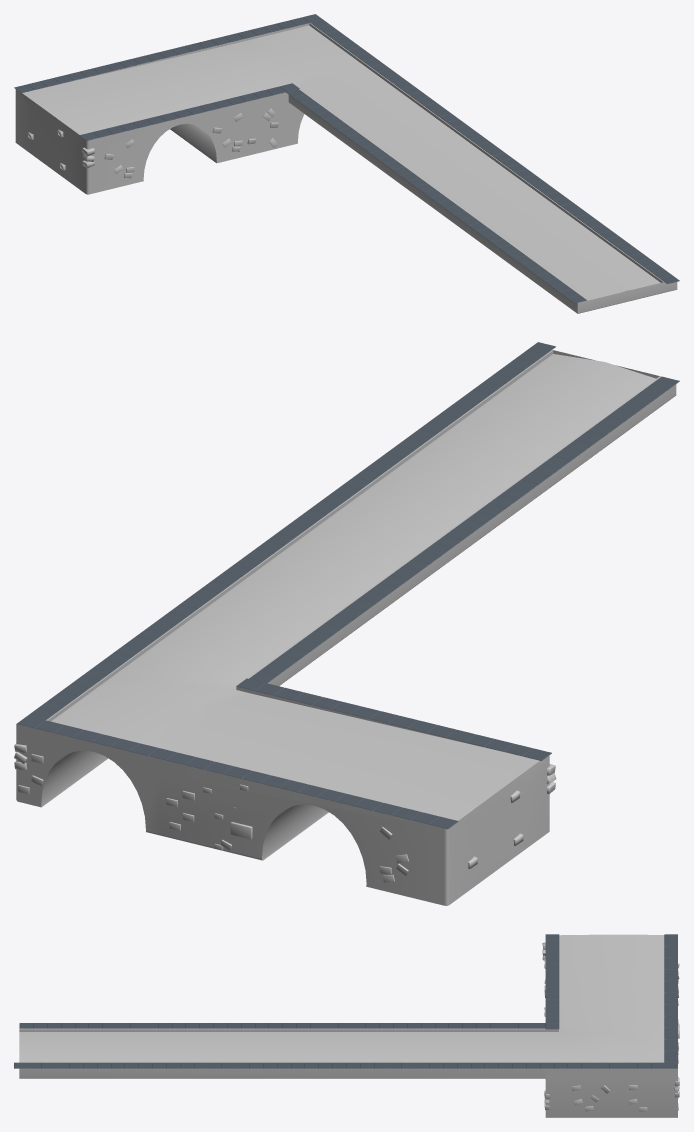
File: Bridge.fbx
The picture shows the model from 3 angles, top to bottom: view 1: azimuth 30°, elevation 25°; view 2: azimuth 150°, elevation 25°; view 3: azimuth 270°, elevation 25°; orthographic projection. The views are drawn at different scales.
Visible parts, largest first — view 1: Lowbridgeblockout; view 2: Lowbridgeblockout; view 3: Lowbridgeblockout.
Part boxes in pixels (bbox=[...]): Lowbridgeblockout: bbox=[14, 14, 679, 313]; Lowbridgeblockout: bbox=[14, 342, 679, 905]; Lowbridgeblockout: bbox=[14, 934, 679, 1117].
Size of the model in its own units: 7282 by 1248 by 15104.
